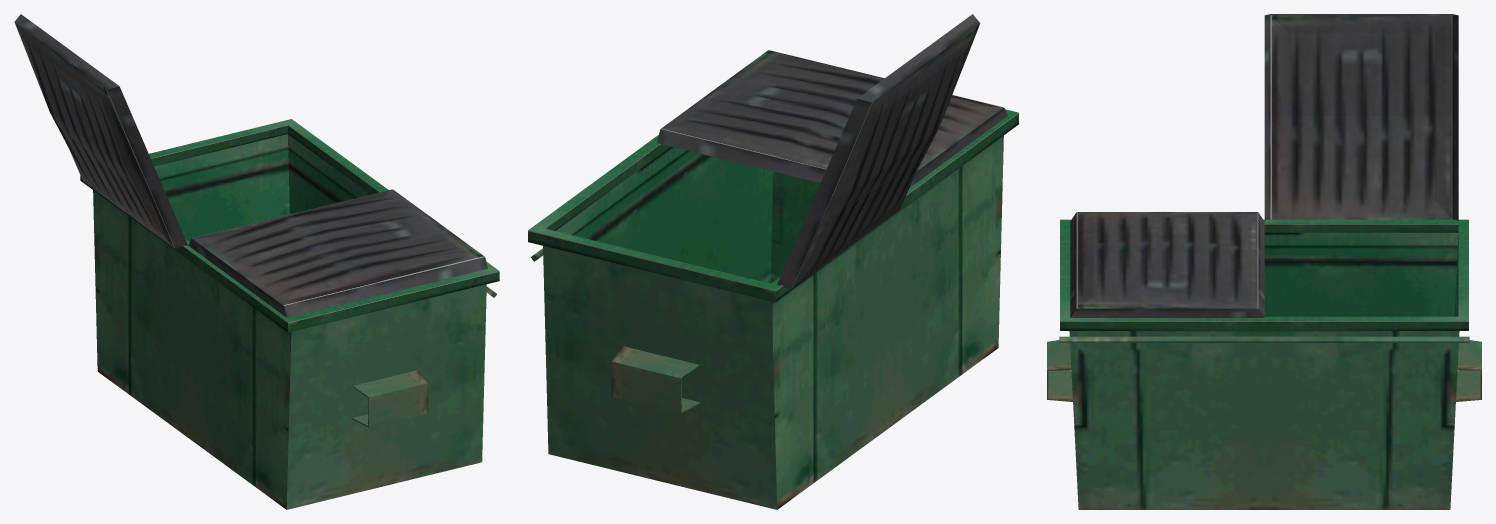
The model's file is Urban_DumpsterEmptyLidOpen_Model.fbx.
3 views of the same model, side by side, from view 1: azimuth 30°, elevation 25°; view 2: azimuth 150°, elevation 25°; view 3: azimuth 270°, elevation 25° (orthographic). The views are drawn at different scales.
Parts seen in each view (by area): view 1: Urban_DumpsterEmptyLidOpen_Mesh; view 2: Urban_DumpsterEmptyLidOpen_Mesh; view 3: Urban_DumpsterEmptyLidOpen_Mesh.
Boxes of the visible parts, left/top/right/bottom form: Urban_DumpsterEmptyLidOpen_Mesh: left=14, top=14, right=499, bottom=509; Urban_DumpsterEmptyLidOpen_Mesh: left=528, top=14, right=1018, bottom=509; Urban_DumpsterEmptyLidOpen_Mesh: left=1047, top=14, right=1481, bottom=509.
Bounding box in the file's own units: 2.74 × 3.41 × 3.67.
